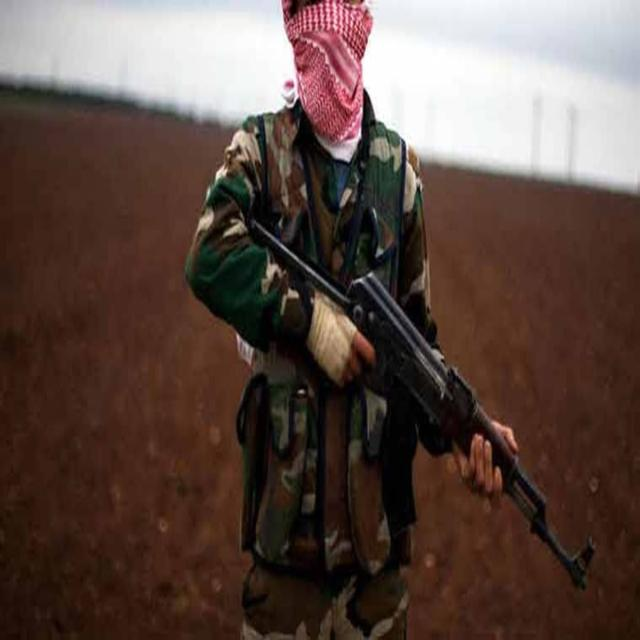Militant: (189, 1, 481, 640)
